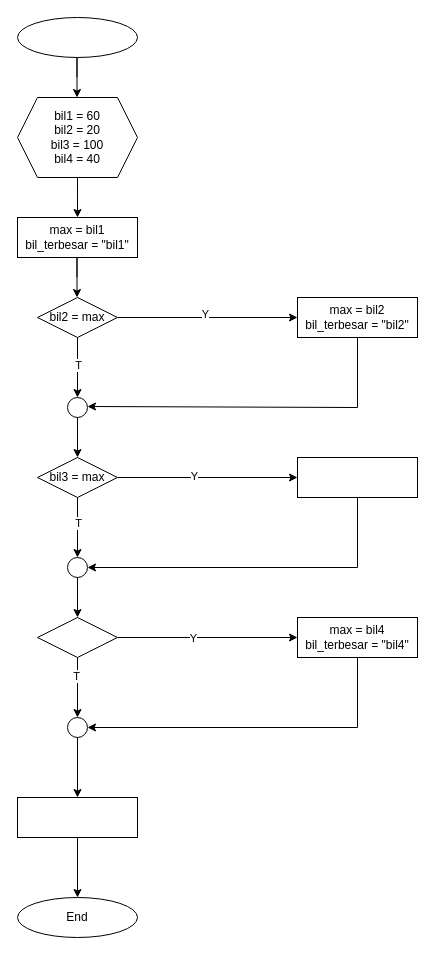
The diagram is 435 pixels wide and 955 high, and some of its shapes have lost their labels. Each missing label, with the centre of its shape:
bil4 = max: (x=77, y=637)
cetak max dan bil_terbesar: (x=77, y=817)
max = bil3 bil_terbesar = "bil3": (x=357, y=477)
Start: (x=77, y=37)
